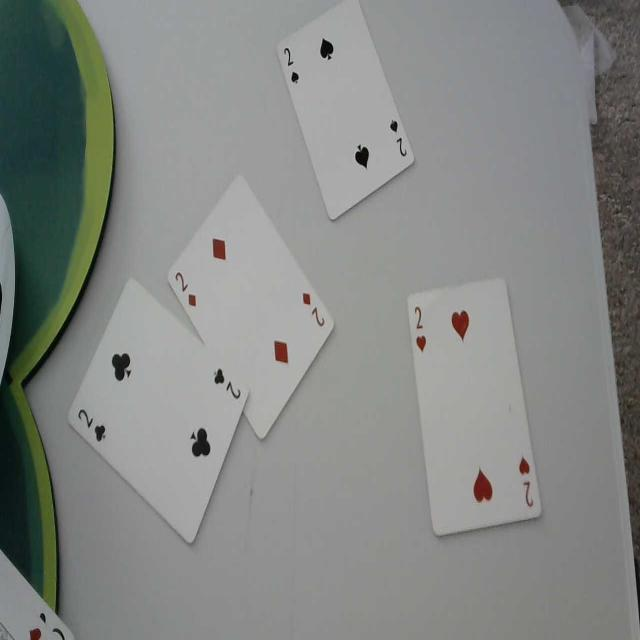2C: (75, 403, 109, 450), (211, 360, 242, 403)
2D: (174, 268, 201, 312), (300, 287, 327, 331)
2H: (517, 453, 536, 511), (414, 301, 428, 357)
2S: (281, 43, 301, 88), (388, 116, 408, 160)
